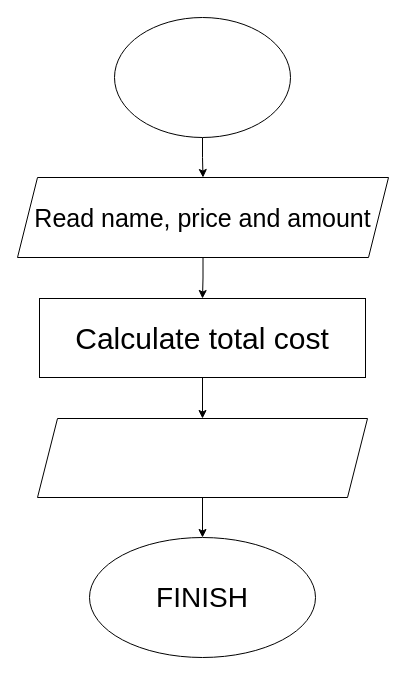
Image size: 406x675. Some labels were removed from this diagram. The centre of each missing label's shape, as x and y in pixels:
"Review result" belongs at [202,458].
"START" belongs at [202,77].
